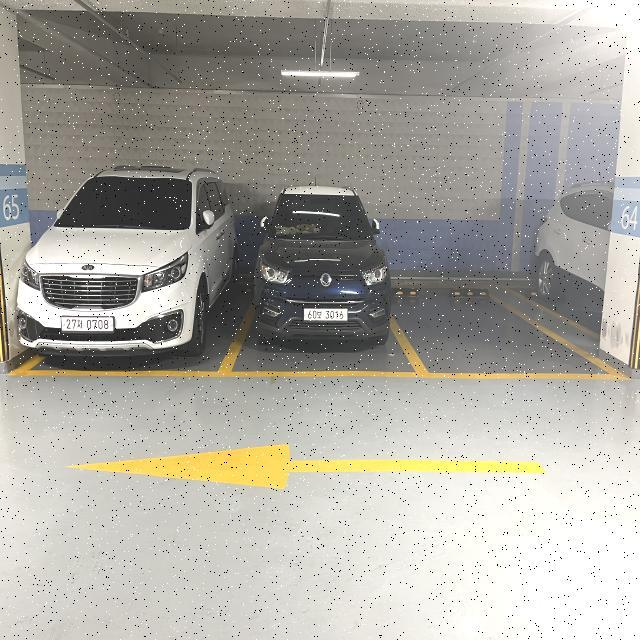empty: (405, 284, 579, 385)
occupied: (22, 152, 238, 386), (238, 151, 406, 388)
